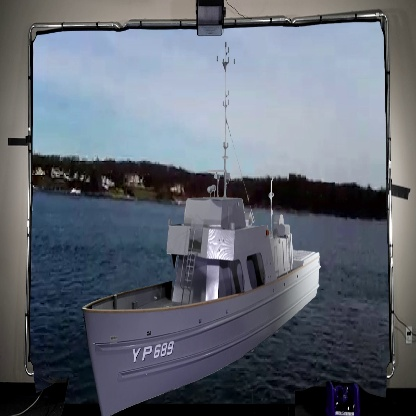YP689: (78, 41, 323, 411)
